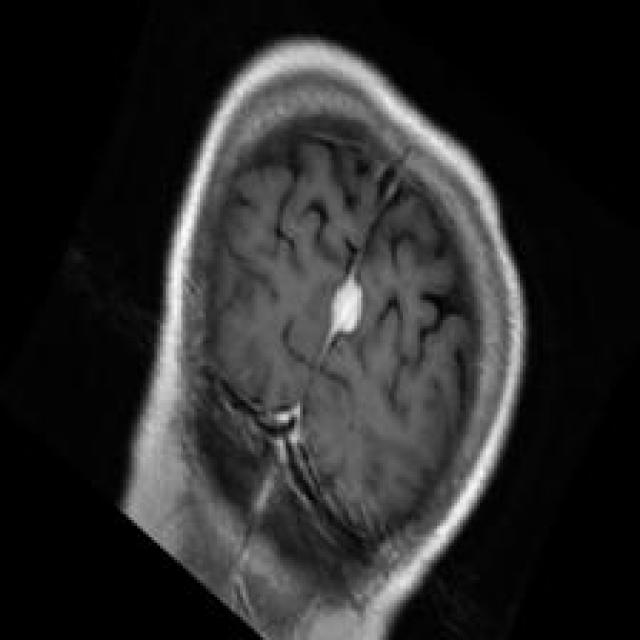meningioma_tumor: (316, 248, 382, 360)
